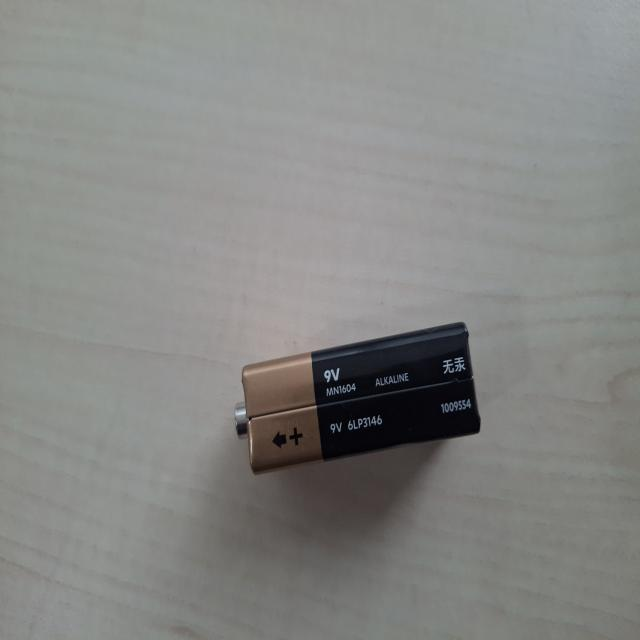9V: (122, 314, 238, 637)
